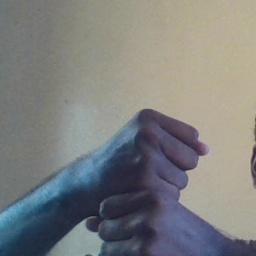G: (86, 102, 209, 256)
